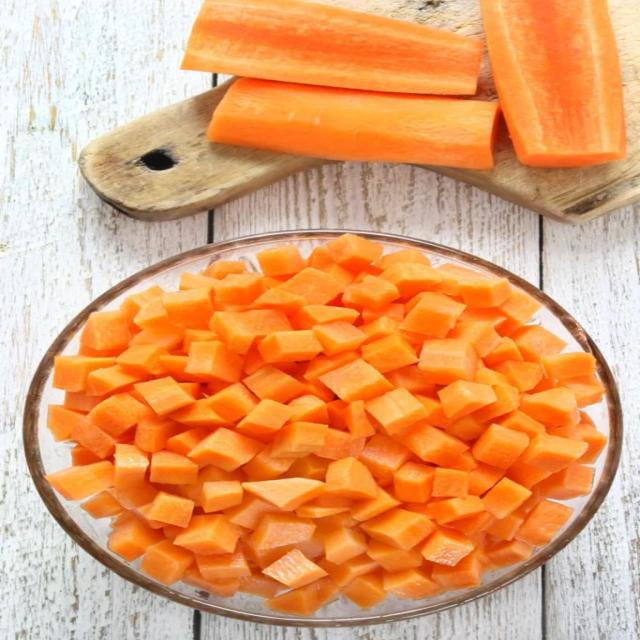carrot: (48, 234, 606, 614), (182, 0, 482, 94), (208, 78, 498, 169), (481, 0, 625, 166), (189, 428, 264, 470), (319, 359, 391, 402), (361, 509, 436, 550), (399, 292, 464, 338), (365, 388, 426, 435), (265, 578, 339, 615), (88, 394, 152, 436), (179, 465, 244, 506), (242, 478, 325, 510), (418, 339, 477, 384), (359, 434, 411, 485), (403, 425, 469, 465), (46, 461, 114, 499), (516, 500, 572, 546), (521, 434, 587, 473), (472, 424, 529, 468), (175, 515, 239, 554), (108, 516, 163, 561), (278, 267, 344, 304), (263, 550, 327, 588), (185, 341, 242, 383), (236, 399, 294, 439), (243, 365, 304, 403), (134, 377, 193, 416), (521, 387, 580, 426), (438, 380, 496, 419), (380, 262, 441, 299), (251, 514, 315, 549), (53, 355, 115, 391), (325, 457, 378, 499), (242, 446, 306, 480), (258, 330, 323, 363), (362, 334, 417, 373), (80, 310, 131, 351), (420, 528, 475, 566), (326, 234, 383, 270), (162, 288, 213, 328), (448, 321, 503, 358), (497, 287, 540, 334), (482, 478, 532, 518), (224, 494, 281, 529), (271, 422, 328, 457), (511, 325, 566, 361), (209, 311, 255, 354), (538, 464, 594, 499), (432, 551, 483, 589), (343, 275, 399, 309), (207, 383, 257, 421), (366, 539, 423, 572), (320, 554, 378, 586), (182, 565, 240, 597), (313, 321, 366, 355), (86, 365, 144, 396), (70, 420, 116, 459), (474, 383, 520, 421), (171, 399, 230, 428), (304, 351, 359, 382), (145, 492, 193, 527), (384, 569, 441, 598), (428, 495, 485, 524), (394, 462, 435, 502), (343, 572, 386, 609), (292, 305, 358, 329), (459, 277, 510, 308), (351, 489, 400, 521), (195, 552, 251, 580), (150, 451, 197, 484), (256, 245, 306, 276), (120, 285, 163, 321), (114, 444, 148, 489), (325, 528, 367, 564), (315, 429, 365, 459), (215, 274, 265, 304), (47, 405, 88, 441), (494, 361, 543, 391), (541, 352, 595, 379), (254, 285, 306, 313), (116, 345, 166, 374), (435, 263, 478, 296), (386, 365, 434, 394), (562, 375, 604, 408), (497, 410, 545, 438), (130, 325, 184, 349), (487, 540, 533, 568), (202, 481, 243, 512), (374, 249, 431, 271), (506, 460, 550, 488), (115, 480, 157, 509), (81, 490, 124, 518), (239, 570, 282, 598), (577, 423, 607, 463), (134, 297, 171, 329), (442, 415, 487, 441), (417, 394, 451, 428), (287, 395, 328, 423), (483, 337, 522, 366), (449, 512, 496, 536), (287, 454, 329, 480), (432, 467, 468, 497), (160, 355, 201, 381), (361, 302, 404, 326), (487, 513, 523, 540), (306, 380, 334, 414), (63, 392, 104, 413), (201, 260, 246, 279), (296, 503, 349, 518), (179, 272, 216, 293), (474, 364, 508, 386), (449, 450, 478, 473), (327, 399, 347, 430)
